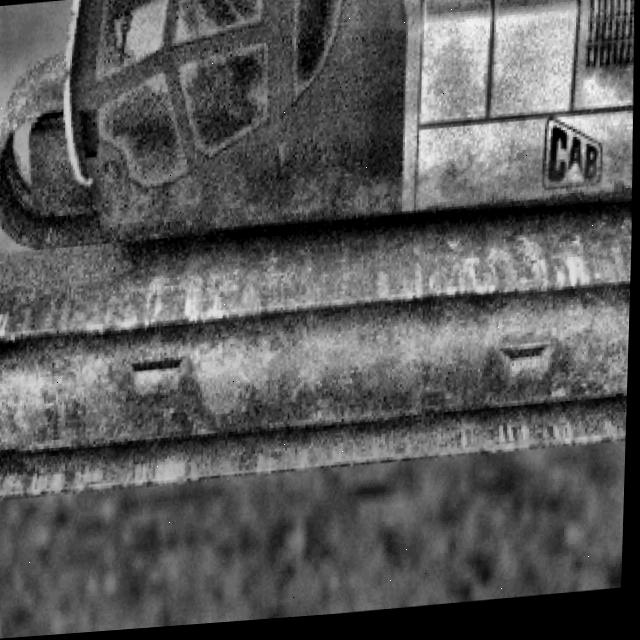excavator: (0, 0, 640, 498)
